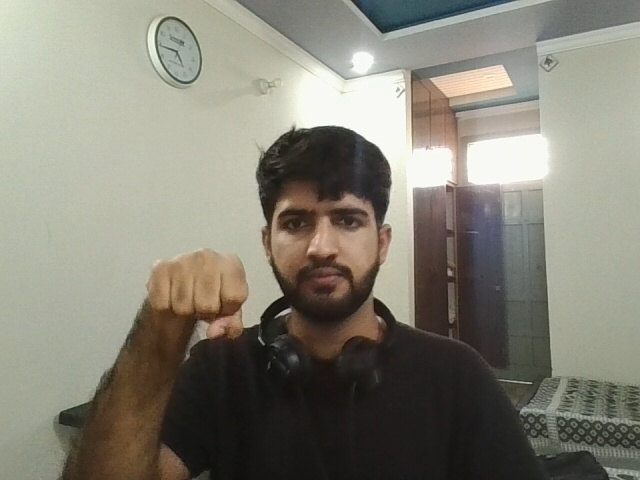Yes: (110, 219, 275, 351)
